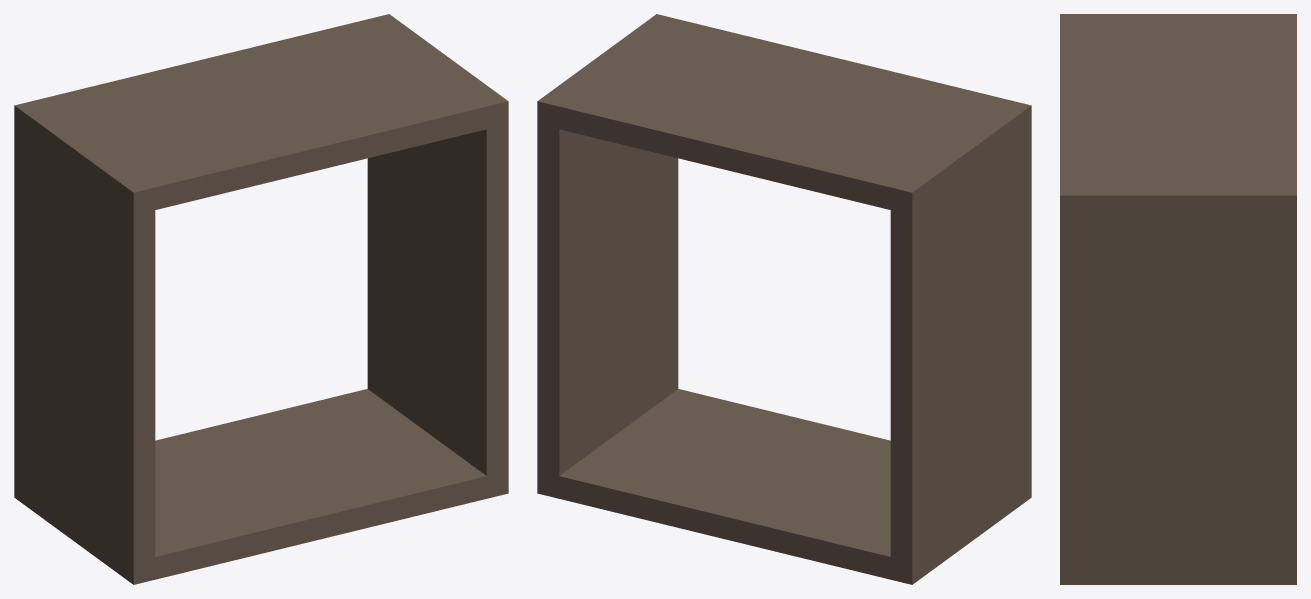
The model's file is Shelf_06.fbx.
The picture shows the model from 3 angles, left to right: view 1: azimuth 30°, elevation 25°; view 2: azimuth 150°, elevation 25°; view 3: azimuth 270°, elevation 25°; orthographic projection.
Visible parts, largest first — view 1: Shelf_06; view 2: Shelf_06; view 3: Shelf_06.
Boxes of the visible parts, x1,y1,x2,y2 form: Shelf_06: (14, 14, 508, 584); Shelf_06: (537, 14, 1031, 584); Shelf_06: (1060, 14, 1296, 584).
Bounding box in the file's own units: 27.22 × 27.22 × 15.
